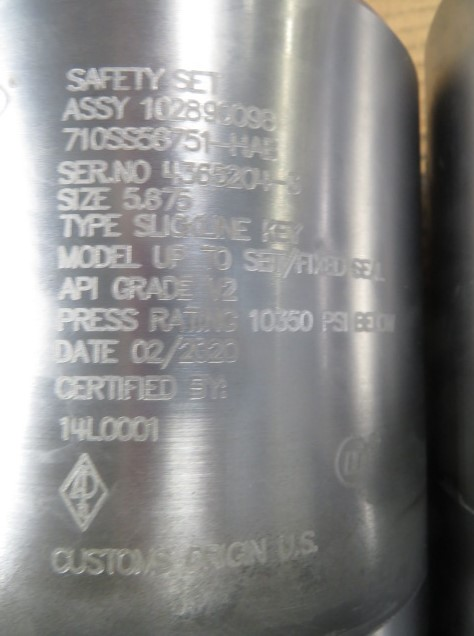character: (66, 547, 89, 579), (133, 549, 156, 579), (248, 536, 269, 568), (56, 243, 80, 270), (147, 305, 169, 333), (64, 65, 85, 94), (109, 275, 130, 304), (205, 373, 225, 403), (155, 547, 173, 580), (112, 158, 133, 186), (184, 546, 205, 574), (161, 159, 181, 188), (57, 274, 77, 303), (54, 306, 74, 335), (228, 539, 245, 573), (49, 546, 67, 578), (116, 549, 134, 581), (247, 133, 266, 163), (90, 157, 109, 187), (131, 415, 150, 445), (61, 95, 81, 123), (101, 337, 121, 365), (71, 373, 89, 404), (100, 414, 118, 445), (299, 527, 318, 556), (54, 159, 75, 185), (113, 65, 133, 92), (111, 94, 131, 121), (225, 162, 243, 192), (159, 373, 177, 403), (188, 374, 208, 401), (277, 532, 295, 562), (167, 306, 186, 334), (53, 374, 72, 402), (86, 374, 105, 402), (230, 130, 248, 159), (125, 242, 143, 271), (130, 337, 148, 366), (144, 374, 162, 403), (84, 414, 102, 443), (144, 65, 164, 91), (71, 213, 91, 239), (52, 338, 72, 364), (189, 69, 208, 96), (153, 95, 172, 122), (122, 185, 141, 212), (153, 243, 172, 270), (128, 274, 147, 301), (89, 306, 108, 333), (105, 306, 124, 333), (122, 306, 141, 333), (145, 337, 164, 364), (73, 157, 90, 187), (87, 548, 104, 578), (61, 124, 79, 152), (78, 183, 96, 211), (93, 185, 111, 213), (109, 242, 127, 270), (146, 416, 162, 447), (170, 66, 189, 92), (96, 93, 115, 119), (286, 222, 305, 248), (241, 248, 260, 274), (162, 274, 179, 303), (207, 335, 224, 364), (122, 374, 139, 403), (254, 166, 272, 193), (235, 215, 253, 242), (257, 248, 275, 275), (73, 306, 91, 333), (68, 416, 86, 443), (103, 544, 116, 581), (204, 542, 220, 572), (195, 161, 212, 189), (75, 274, 92, 302), (214, 246, 233, 271), (73, 340, 91, 366), (182, 306, 198, 335), (117, 414, 133, 443), (207, 69, 224, 96), (80, 95, 97, 122), (134, 158, 151, 185), (146, 275, 163, 302), (86, 338, 103, 365), (133, 213, 152, 237), (182, 158, 197, 188), (57, 213, 75, 238), (104, 213, 122, 238), (221, 278, 239, 303), (193, 336, 208, 366), (184, 96, 200, 124), (246, 104, 262, 132), (95, 243, 111, 271), (177, 275, 193, 303), (103, 372, 119, 400), (145, 186, 162, 212), (79, 244, 96, 270), (133, 64, 148, 93), (141, 124, 156, 153), (171, 243, 186, 272), (231, 100, 247, 127), (154, 123, 170, 150), (267, 138, 283, 165), (56, 187, 74, 211), (287, 171, 304, 196), (262, 106, 277, 134), (90, 213, 105, 241), (57, 415, 72, 443), (186, 127, 202, 153), (179, 339, 195, 365), (224, 338, 240, 364), (91, 126, 108, 150), (177, 187, 194, 211), (258, 309, 275, 333), (243, 164, 258, 191), (150, 213, 165, 240), (171, 96, 187, 121), (108, 125, 124, 150), (201, 244, 215, 272), (271, 248, 285, 276), (214, 161, 227, 191), (161, 187, 177, 211), (259, 217, 275, 241), (85, 65, 100, 90), (139, 96, 154, 121), (273, 219, 289, 242), (299, 308, 313, 334), (125, 126, 140, 150), (204, 100, 218, 125), (218, 100, 232, 125), (170, 125, 184, 150), (288, 308, 301, 334), (100, 66, 114, 90), (79, 126, 92, 151), (248, 308, 261, 333), (275, 309, 288, 334), (91, 276, 103, 303), (219, 544, 229, 575), (202, 128, 214, 153), (321, 310, 333, 334), (333, 312, 345, 334), (135, 374, 144, 401), (243, 539, 251, 569), (71, 186, 79, 212), (163, 213, 171, 237), (117, 374, 124, 400)
